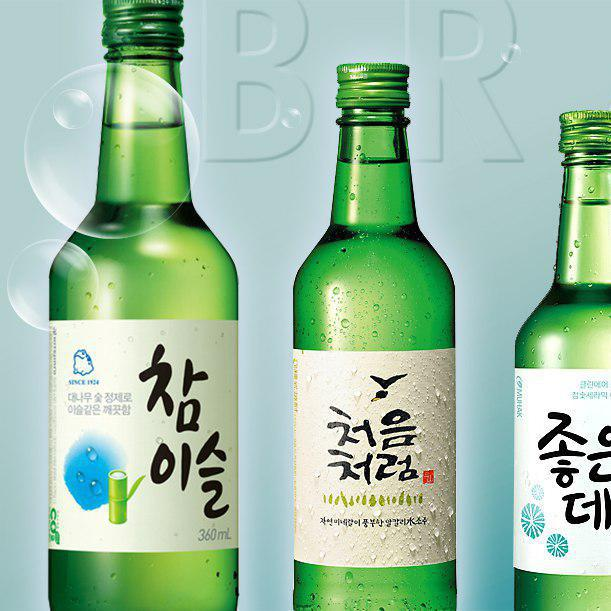soju: (47, 2, 241, 609), (292, 59, 464, 611), (512, 110, 611, 607)
